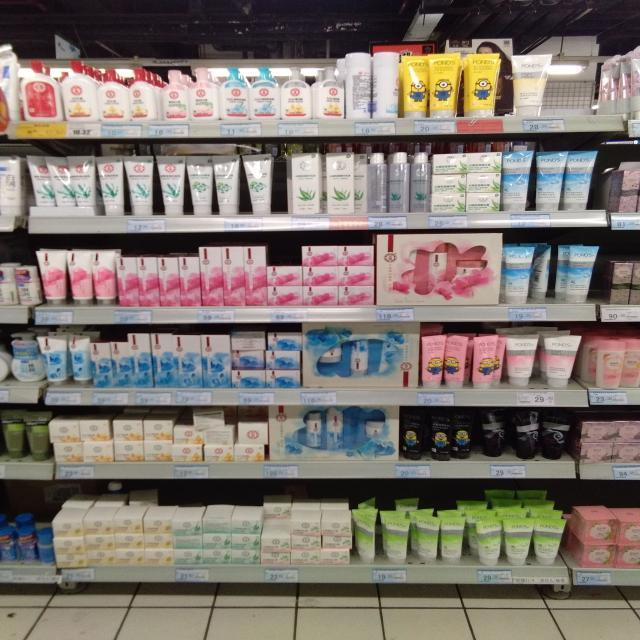empty: (552, 55, 598, 131)
